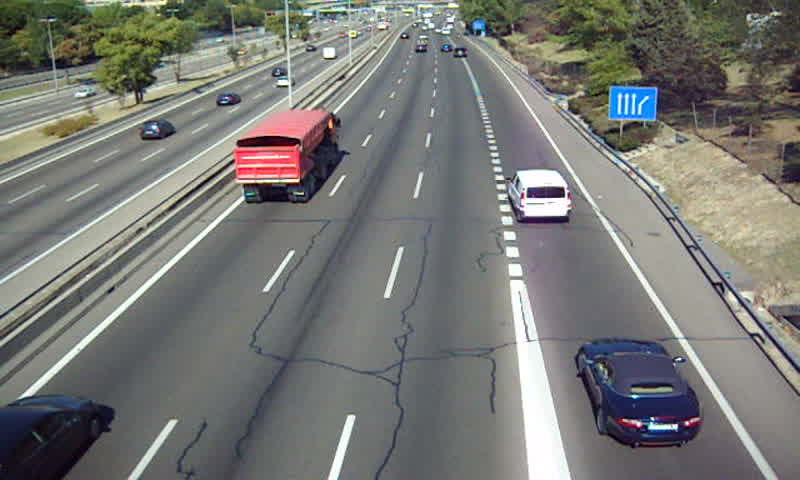car: (578, 341, 702, 445)
truck: (234, 109, 340, 202)
van: (508, 169, 572, 221)
